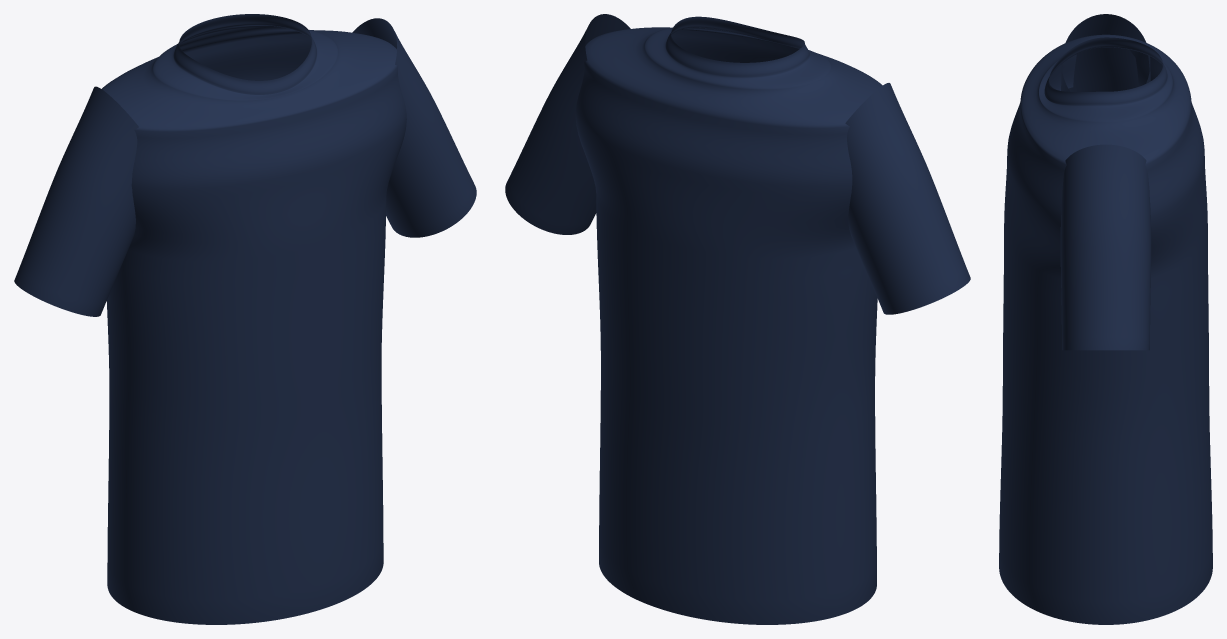
The model's file is demo-relaxed-tee--navy--s.r2.glb.
3 renders of one model, left to right at view 1: azimuth 30°, elevation 25°; view 2: azimuth 150°, elevation 25°; view 3: azimuth 270°, elevation 25°, orthographic. The views are drawn at different scales.
Parts seen in each view (by area): view 1: demo-relaxed-tee--navy--s; view 2: demo-relaxed-tee--navy--s; view 3: demo-relaxed-tee--navy--s.
Boxes of the visible parts, bbox=[...] form: demo-relaxed-tee--navy--s: bbox=[14, 14, 476, 624]; demo-relaxed-tee--navy--s: bbox=[505, 14, 970, 624]; demo-relaxed-tee--navy--s: bbox=[999, 14, 1212, 624].
Bounding box in the file's own units: 0.6223 × 0.706 × 0.2723.
